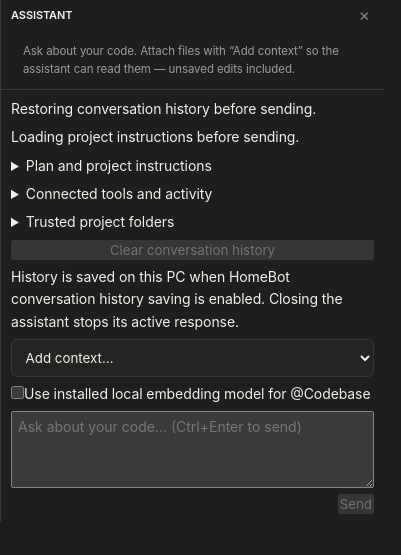
Test: failed result load preserves typed input and durable history until explicit Retry
This screenshot has width=401, height=555.
Type "retained draft" into the text box named "Ask the assistant" at (192, 450), box [11,411,374,488]
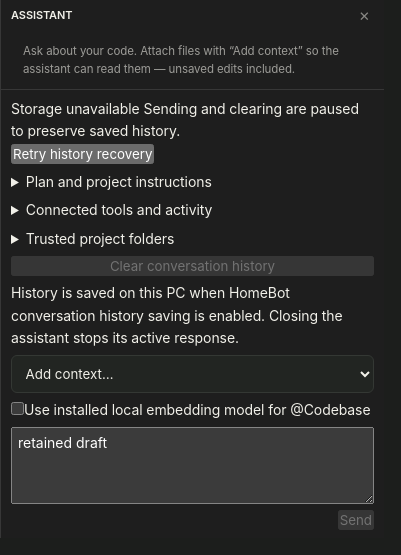
Expected: the button "Send" is disabled, [338,510,374,530]
Expected: the message shows "unavailable", [11,100,140,117]
Press Enter in the text box named "Ask the assistant", box [11,427,374,504]
Click the button "Retry history recovery" at (83, 154), box [11,144,154,164]
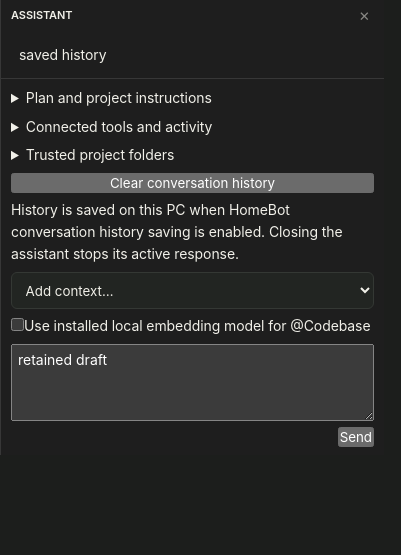
Expected: the element showing "saved history" is shown, [19,46,106,63]
Expected: the button "Send" is enabled, [338,427,374,447]
